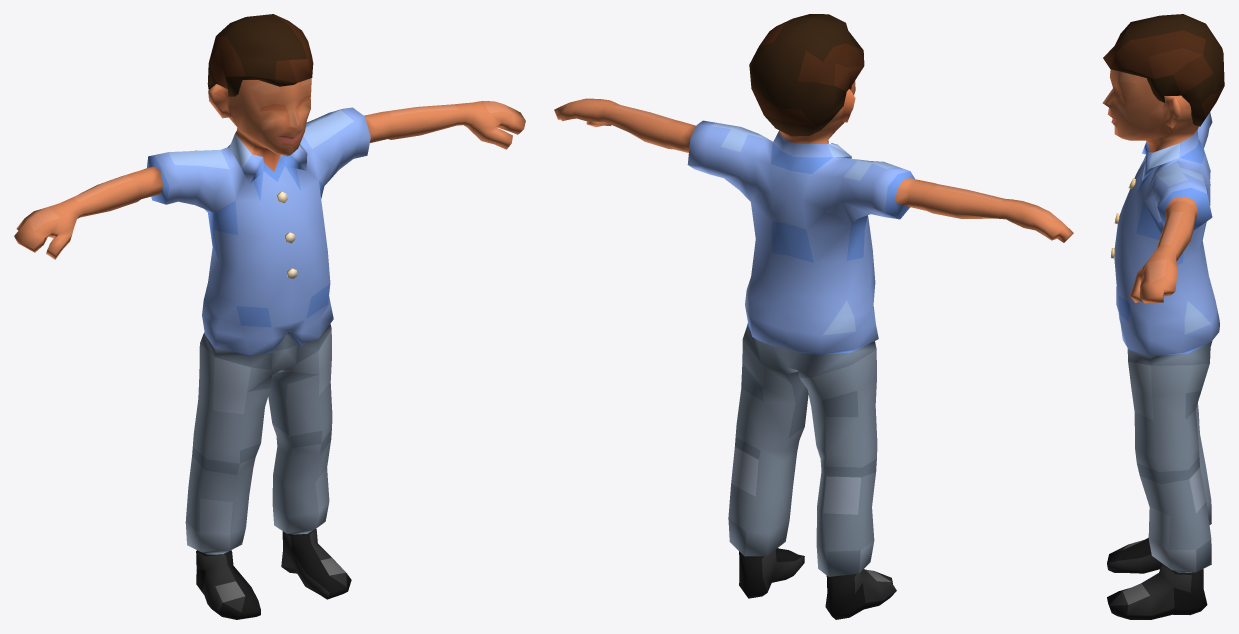
File: little_boy_B-model.obj
The picture shows the model from 3 angles, left to right: view 1: azimuth 30°, elevation 25°; view 2: azimuth 150°, elevation 25°; view 3: azimuth 270°, elevation 25°; orthographic projection.
Visible parts, largest first — view 1: little_boy_B, hair; view 2: little_boy_B, hair; view 3: little_boy_B, hair.
Part boxes in pixels (x1=…): little_boy_B: x1=14, y1=78, x2=525, y2=619; hair: x1=207, y1=14, x2=313, y2=96; little_boy_B: x1=554, y1=80, x2=1073, y2=619; hair: x1=749, y1=14, x2=864, y2=136; little_boy_B: x1=1102, y1=69, x2=1219, y2=619; hair: x1=1103, y1=14, x2=1224, y2=126.
Size of the model in its own units: 92.93 by 99.36 by 19.31.
